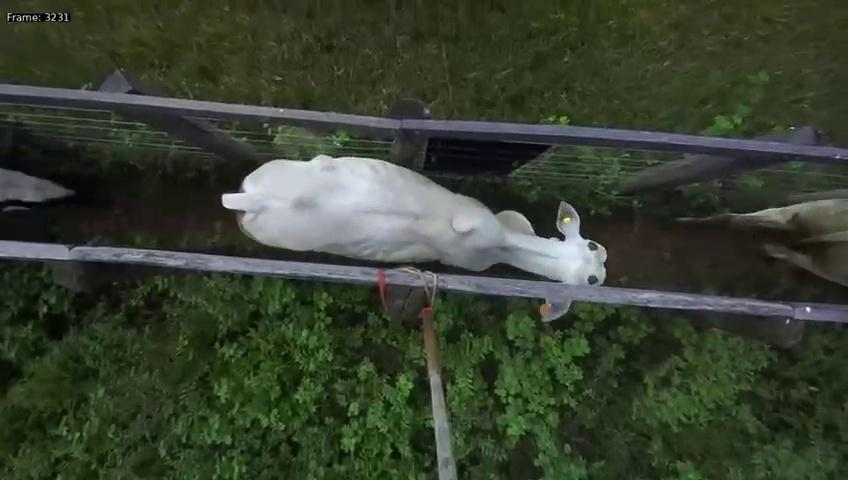cattle: (210, 146, 611, 324)
